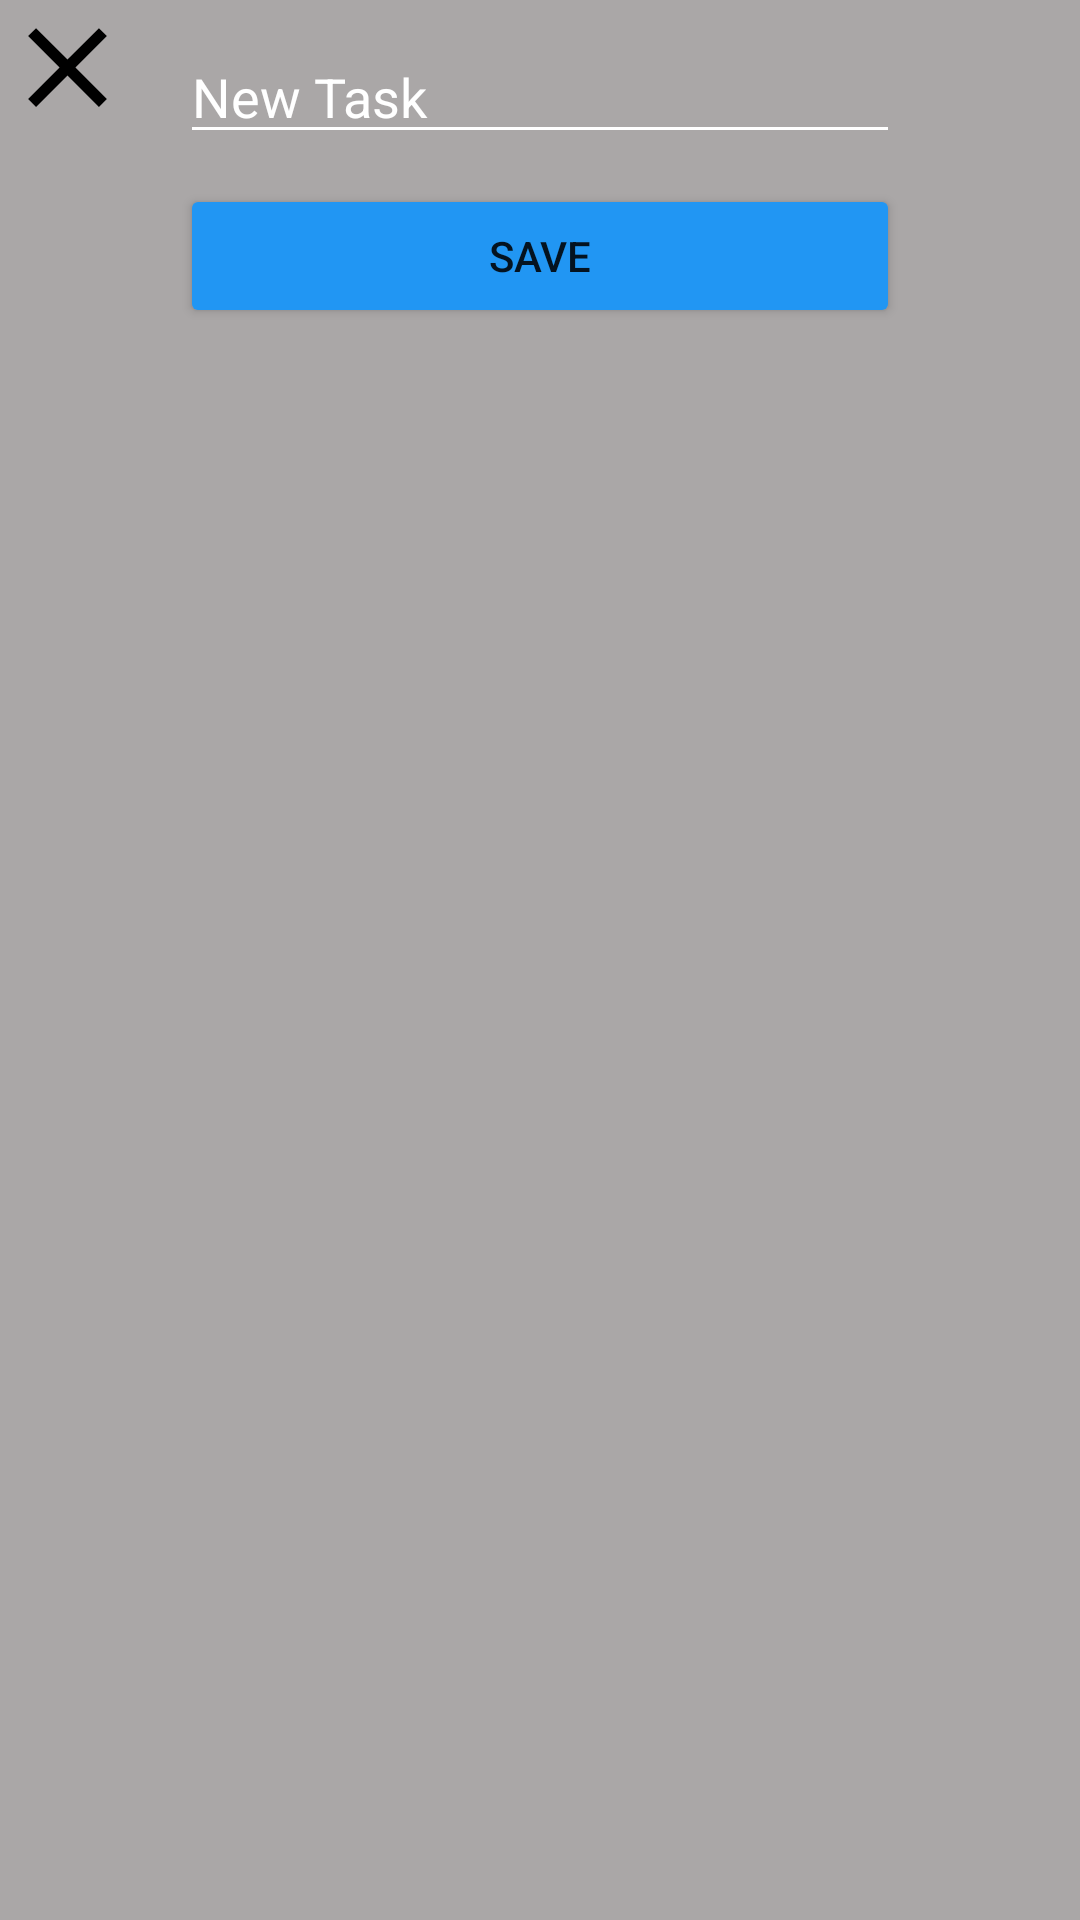

Where icons sit on this 1080px×1920px app screen, as (x1, y1, x2, y2):
close: (28, 28, 107, 107)
